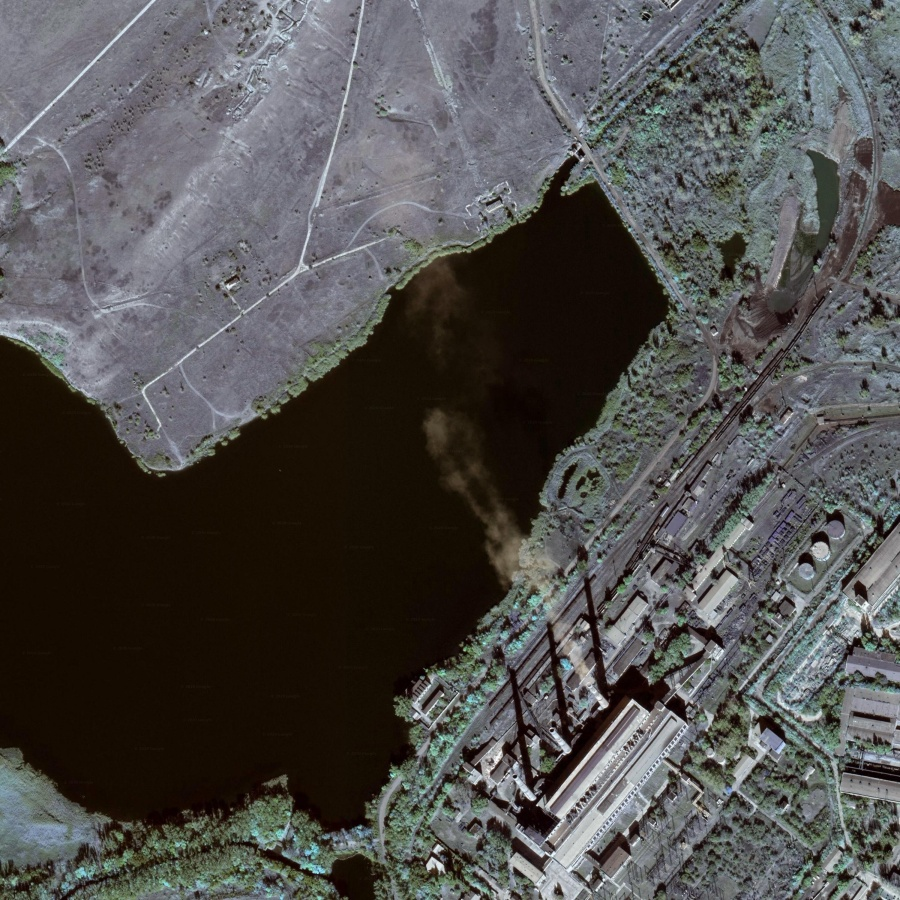PowerPlant: (472, 497, 837, 854)
